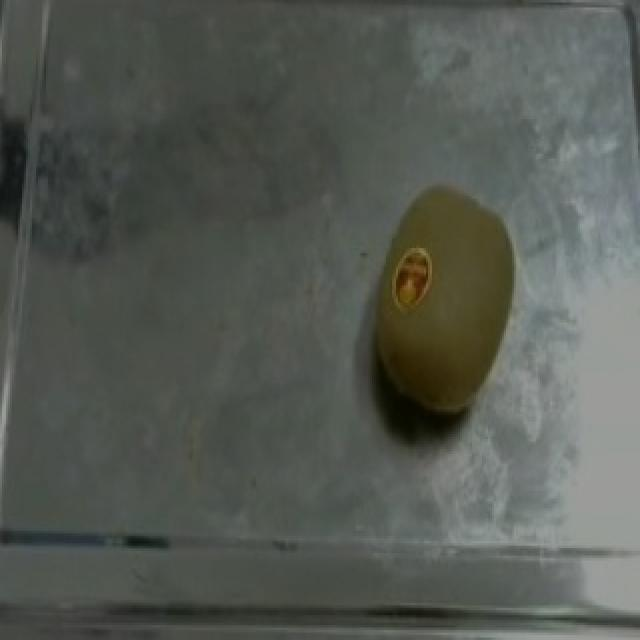Fruit: (358, 179, 528, 429)
